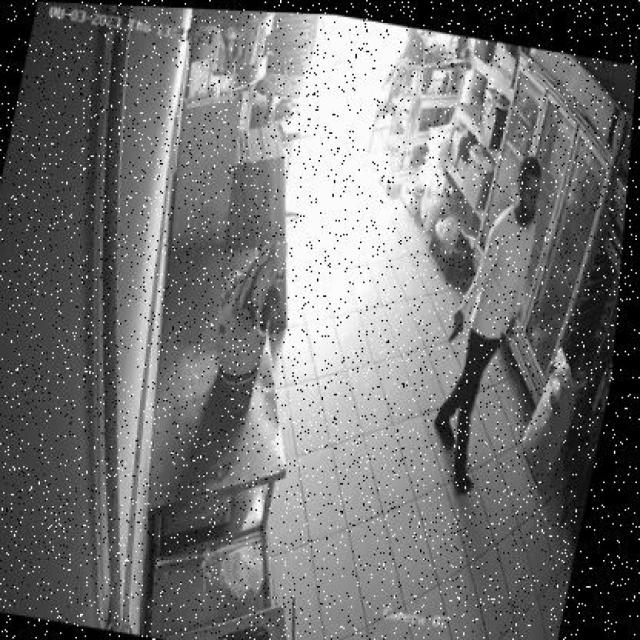weapon: (445, 315, 464, 343)
